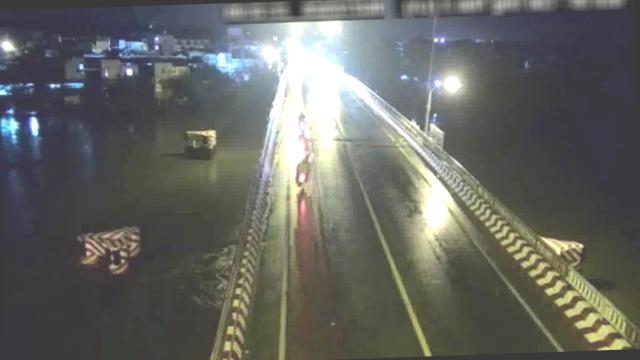Bike: (294, 152, 315, 190), (296, 110, 308, 135)
